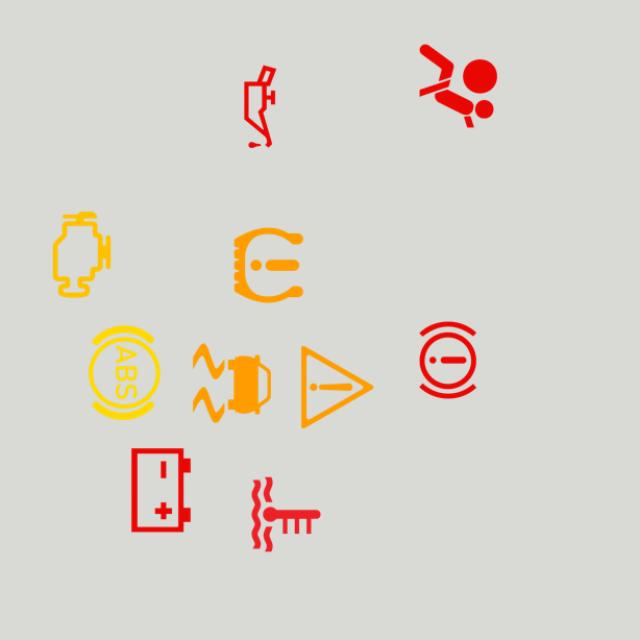Anti Lock Braking System: (73, 321, 176, 424)
Braking System Issue: (396, 308, 499, 412)
Charging System Issue: (110, 439, 212, 542)
Check Engine: (30, 204, 134, 306)
Electronic Stability Problem -ESP-: (180, 332, 284, 434)
Engine Overheating Warning Light: (235, 463, 338, 566)
Low Engine Oil Warning Light: (208, 55, 312, 158)
Low Tire Pressure Warning Light: (217, 214, 320, 317)
Master warning light: (286, 336, 388, 438)
SRS-Airbag: (406, 34, 509, 138)
